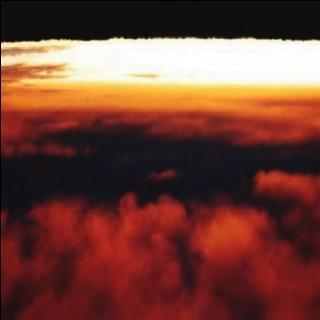Altostratus: (0, 52, 320, 320)
